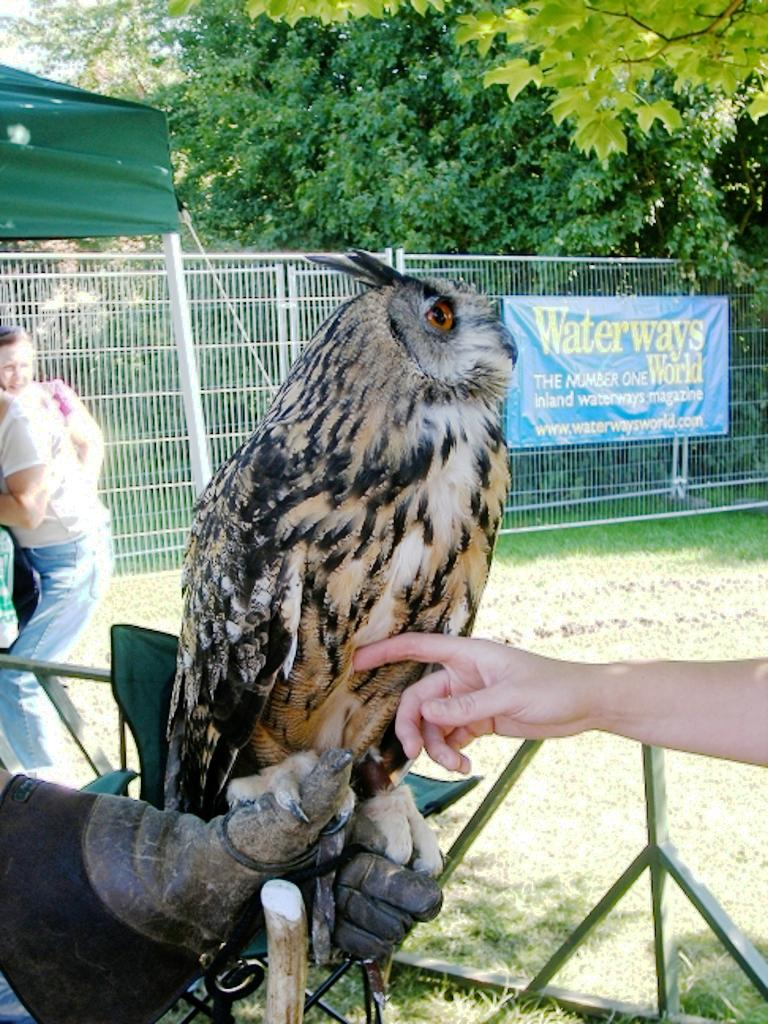Owl: (152, 224, 538, 830)
